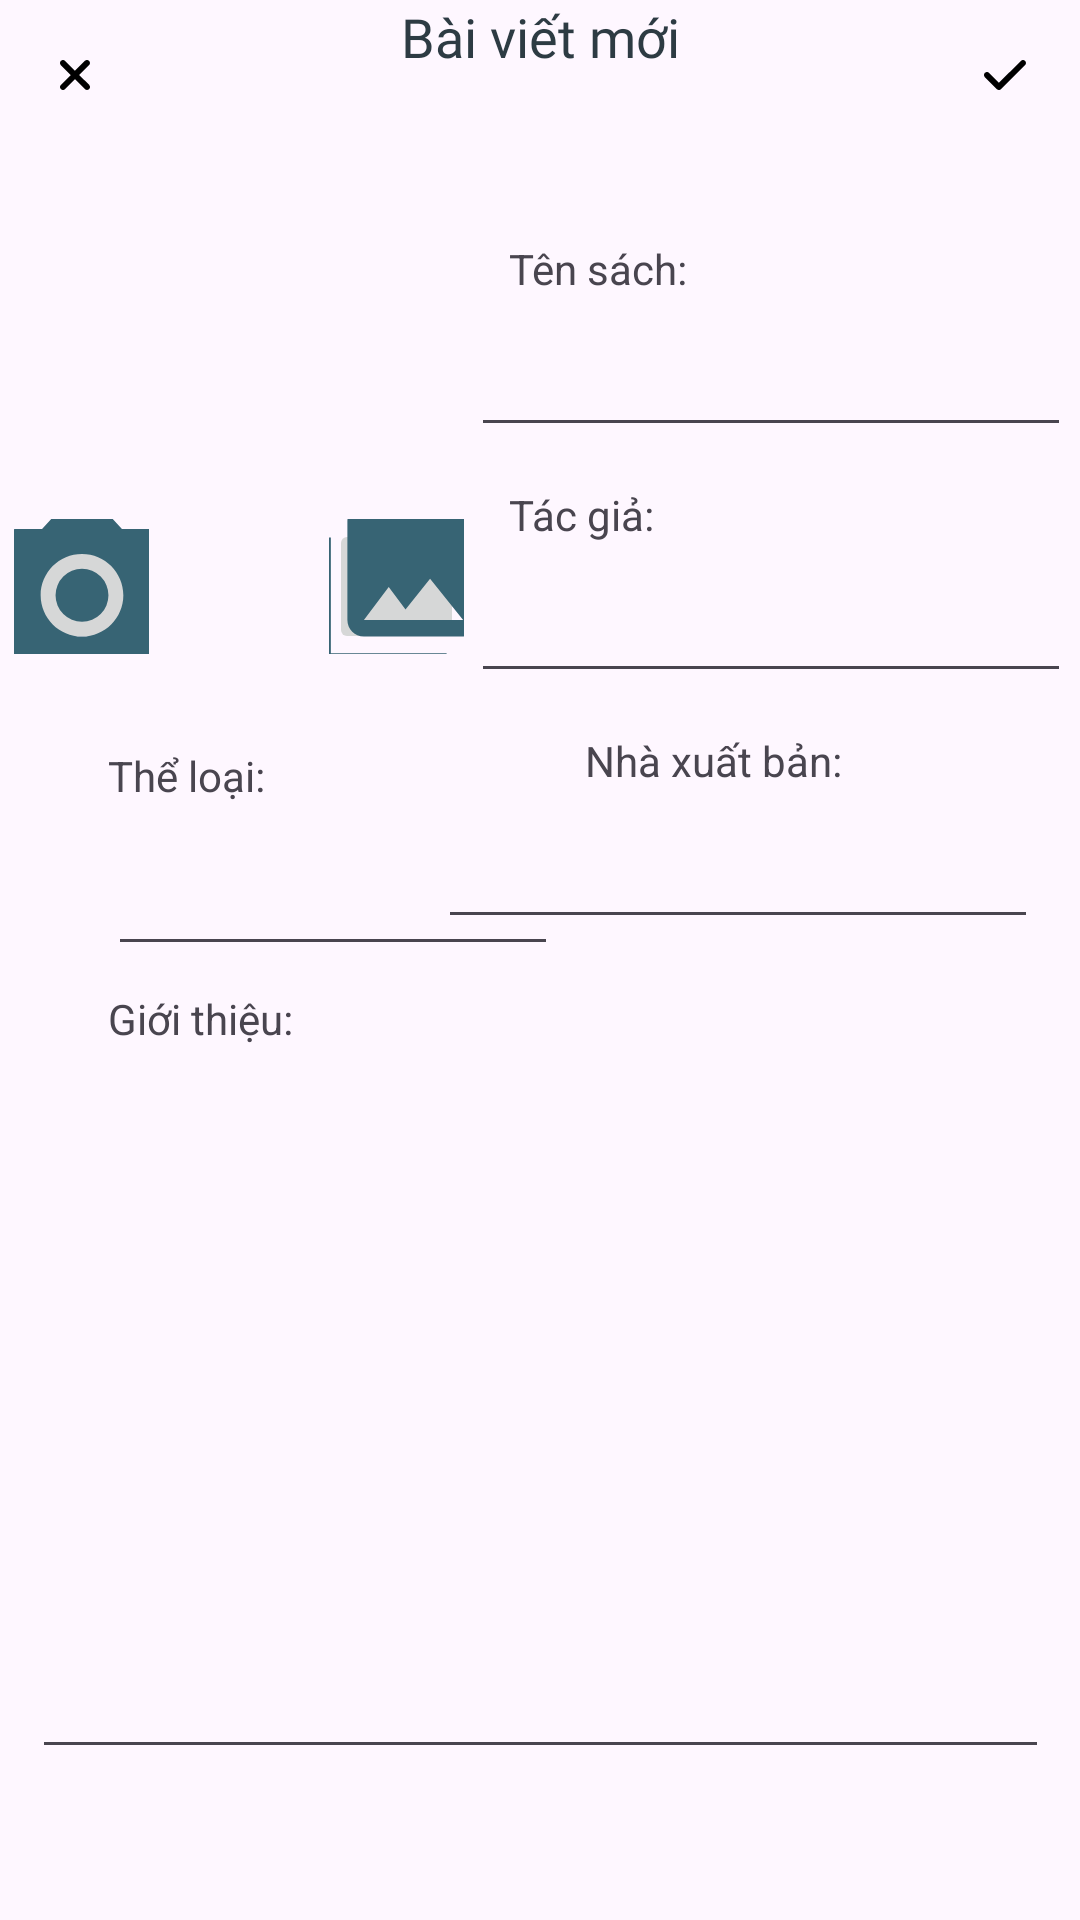

Named icons in this screenshot (1080 x 1920) and their bounding boxes, bbox(x1, y1, x2, y2):
cam: bbox(14, 519, 149, 654)
check: bbox(984, 60, 1026, 90)
xmark: bbox(60, 60, 90, 90)
